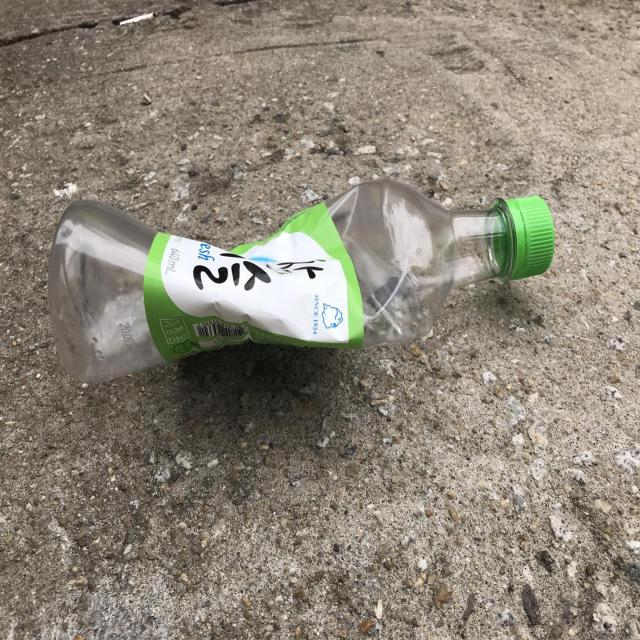plastic: (47, 178, 555, 384)
